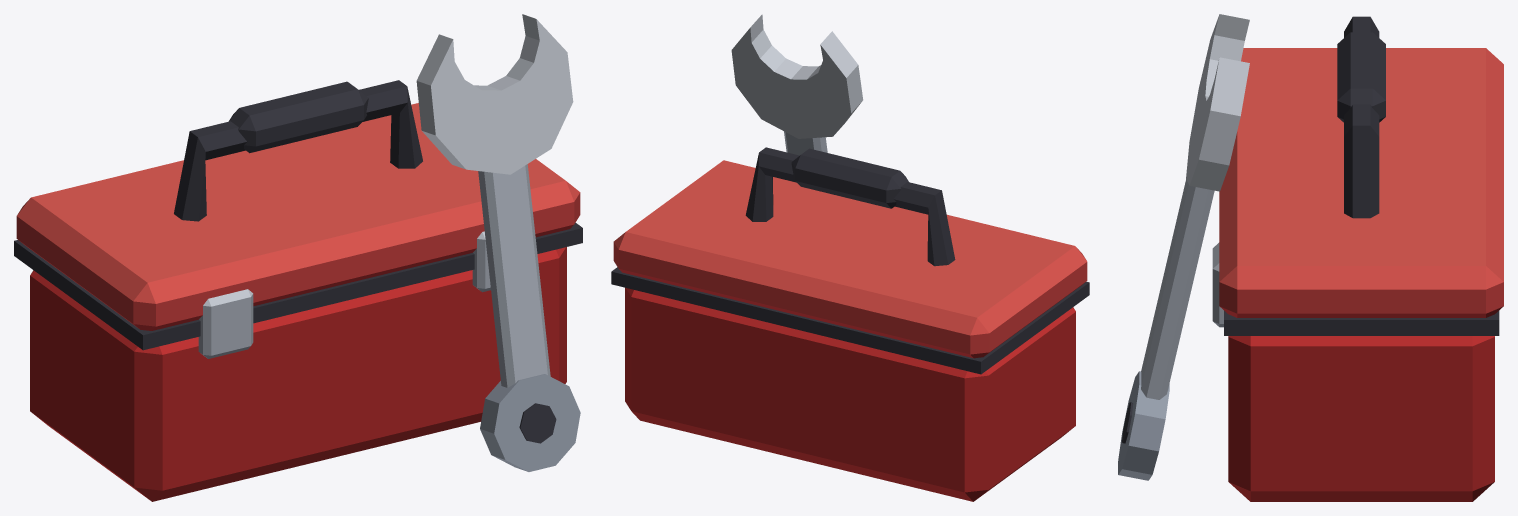
Rendered from habitat_prop_mecha_goo.fbx.
3 views of the same model, side by side, from view 1: azimuth 30°, elevation 25°; view 2: azimuth 150°, elevation 25°; view 3: azimuth 270°, elevation 25° (orthographic). The views are drawn at different scales.
Parts seen in each view (by area): view 1: habitat_prop_mecha_goo; view 2: habitat_prop_mecha_goo; view 3: habitat_prop_mecha_goo.
Boxes of the visible parts, x1,y1,x2,y2 form: habitat_prop_mecha_goo: (14, 14, 582, 501); habitat_prop_mecha_goo: (611, 14, 1089, 501); habitat_prop_mecha_goo: (1118, 14, 1503, 501).
Bounding box in the file's own units: 1.24 × 1.09 × 0.868.
